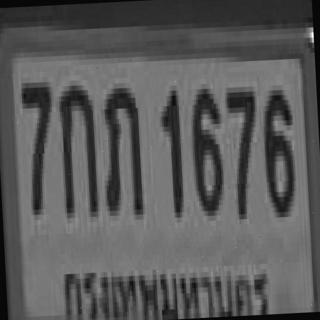A01: (56, 80, 96, 213)
A32: (99, 82, 142, 211)
N01: (158, 86, 182, 213)
N06: (189, 83, 223, 212), (260, 85, 294, 213)
N07: (19, 77, 55, 210), (224, 82, 258, 215)
P04: (57, 250, 271, 320)
